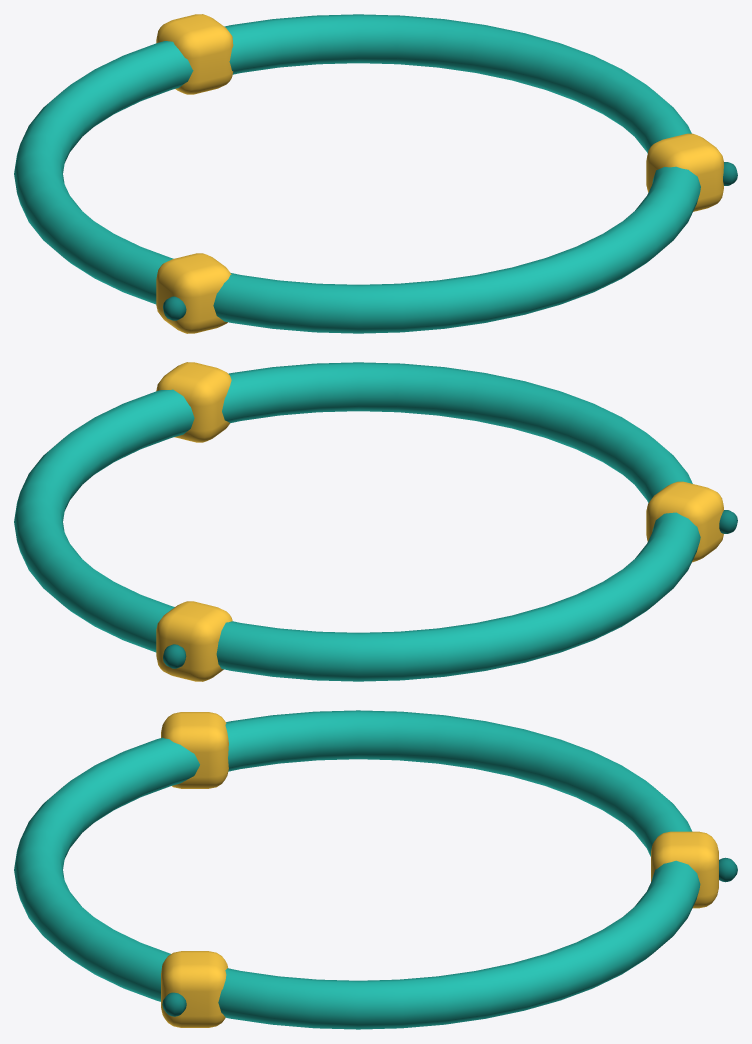
The model's file is GrowerRing.fbx.
3 views of the same model, one above another, from view 1: azimuth 30°, elevation 25°; view 2: azimuth 150°, elevation 25°; view 3: azimuth 270°, elevation 25° (orthographic).
Parts seen in each view (by area): view 1: GrowerRing mesh; view 2: GrowerRing mesh; view 3: GrowerRing mesh.
Boxes of the visible parts, x1=… form: GrowerRing mesh: x1=14, y1=14, x2=737, y2=333; GrowerRing mesh: x1=14, y1=362, x2=737, y2=681; GrowerRing mesh: x1=14, y1=710, x2=737, y2=1029.
Bounding box in the file's own units: 0.506 × 0.05 × 0.532.
